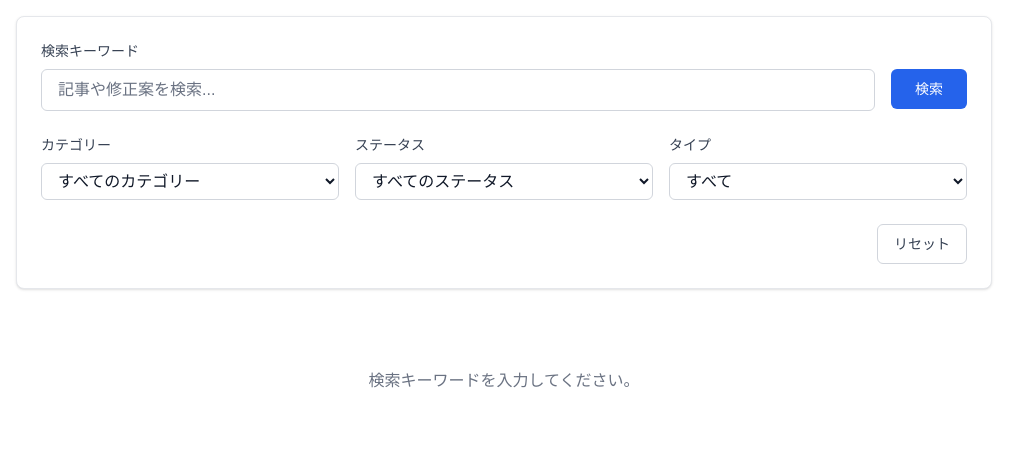
Test case: SearchAndFilter › shows error state when search fails
This screenshot has width=1009, height=466.
Step 1. Type "テスト" into the search field labelled "検索キーワード" → (458, 90), box [41,69,875,111]
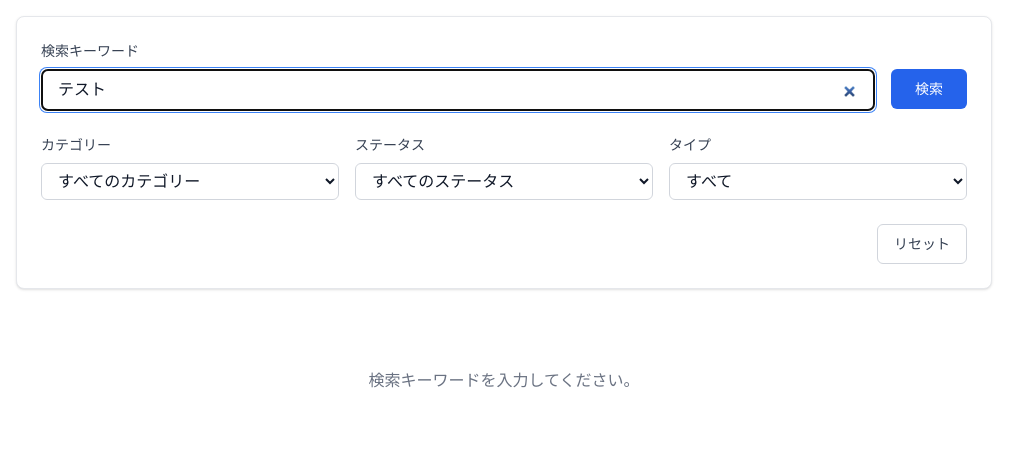
Step 2. Click the button "検索" → (929, 89), box [891,69,967,109]
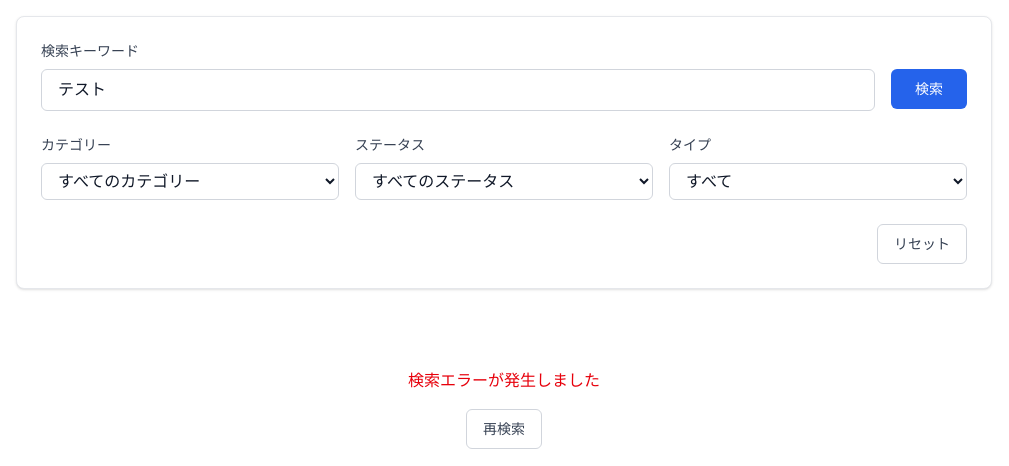
expect the text "検索エラーが発生しました" is shown: met, box [408,372,600,389]
expect the button "再検索" is shown: met, box [466,409,542,449]
